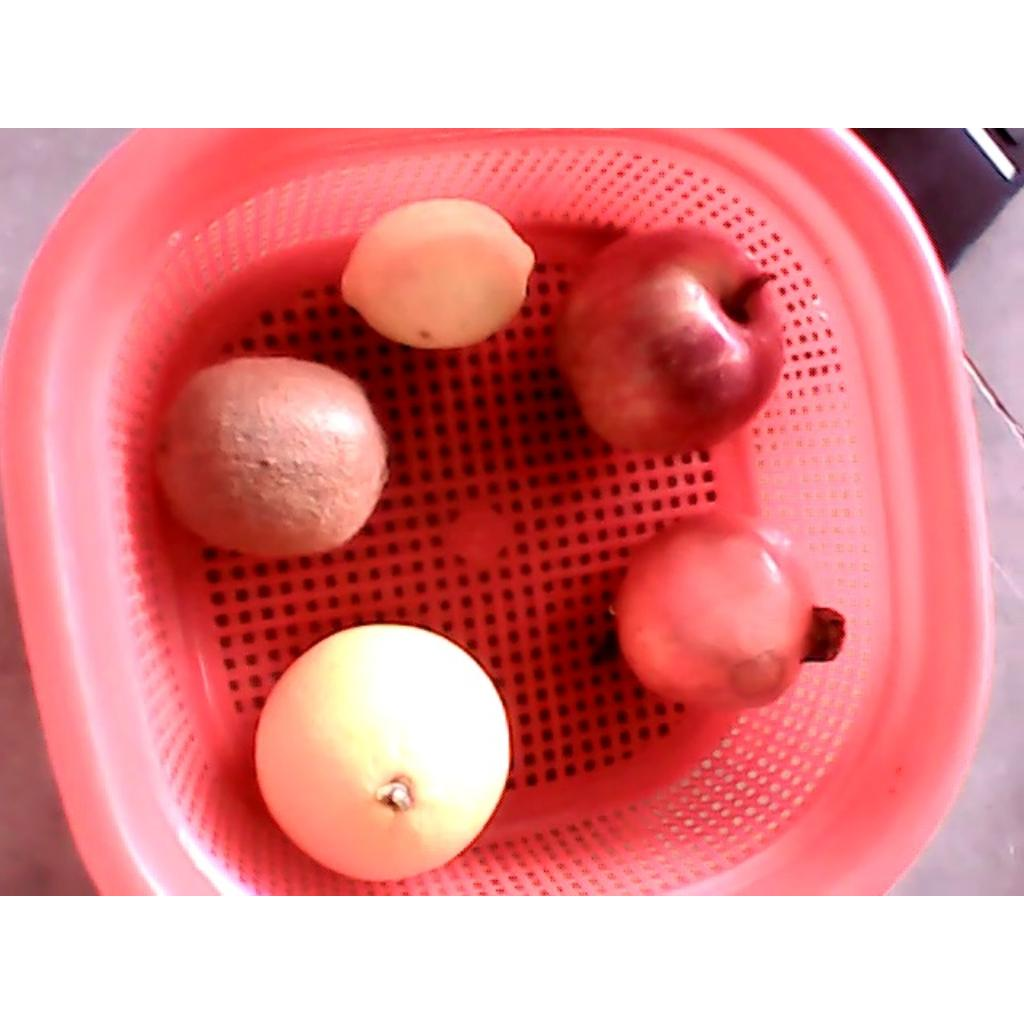apple: (552, 225, 782, 455)
kiwi: (157, 356, 390, 555)
lemon: (340, 198, 538, 349)
orange: (253, 625, 510, 883)
pomegranate: (614, 508, 845, 717)
